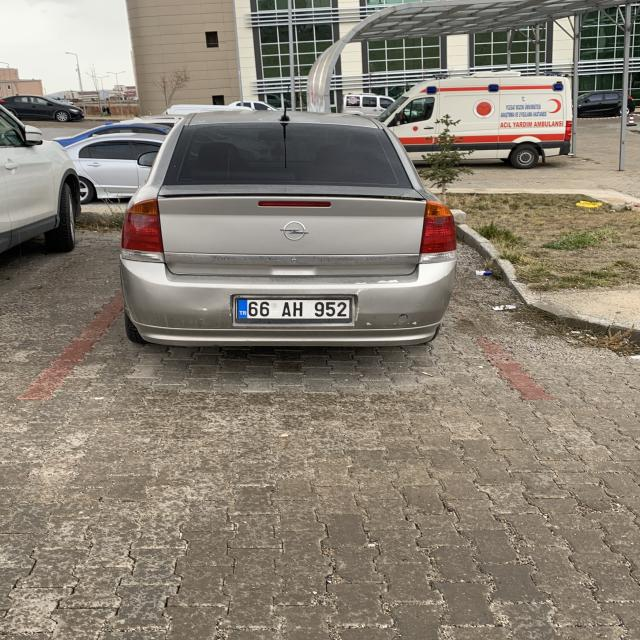license_plate: (236, 299, 351, 319)
